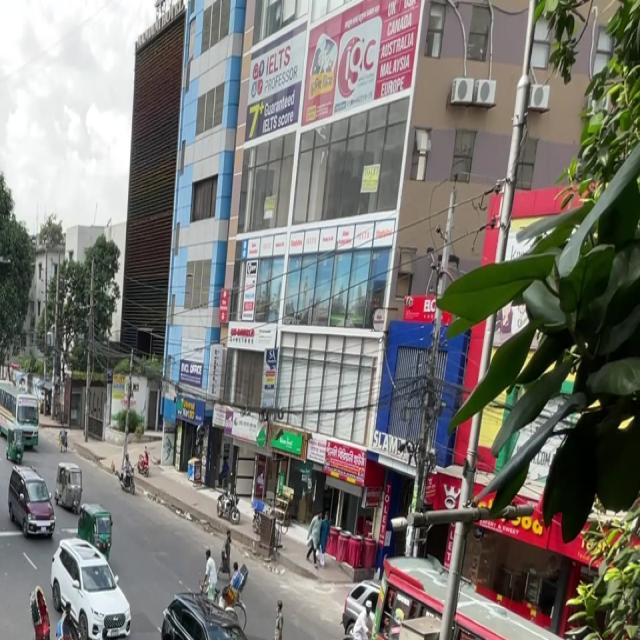car: (48, 536, 135, 640), (156, 588, 279, 640), (5, 467, 59, 541)
motorbike: (215, 482, 241, 530), (116, 455, 138, 498)
rickshaw: (77, 503, 115, 561), (55, 458, 85, 514)
